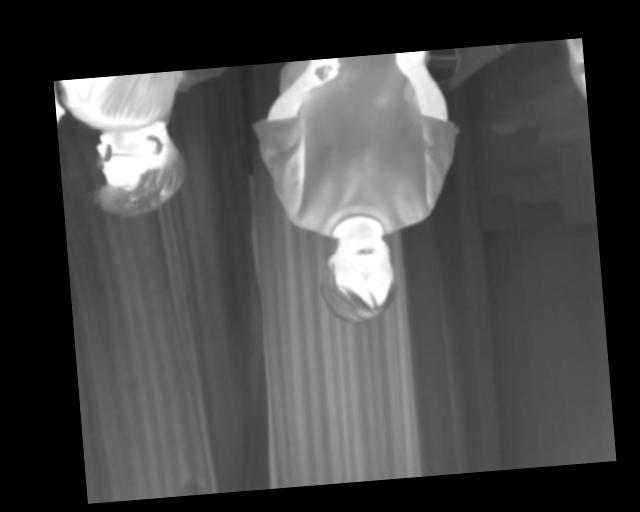face: (316, 226, 401, 325)
